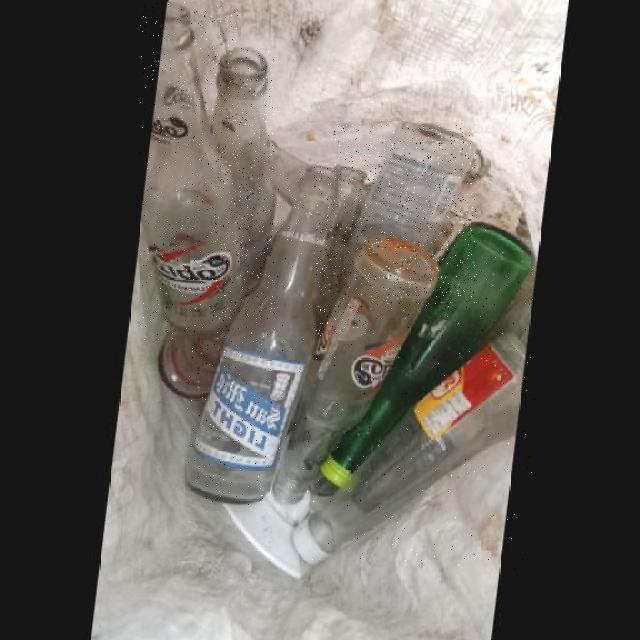glass: (321, 230, 535, 494), (293, 343, 527, 570), (186, 173, 337, 507), (273, 243, 439, 510), (141, 2, 239, 342), (334, 125, 477, 309), (212, 49, 275, 319), (314, 167, 367, 335)
